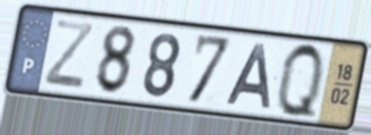7: (189, 31, 236, 107)
8: (94, 23, 138, 96), (142, 31, 182, 99)
A: (223, 42, 274, 111)
Q: (276, 38, 326, 125)
Z: (41, 17, 96, 92)
